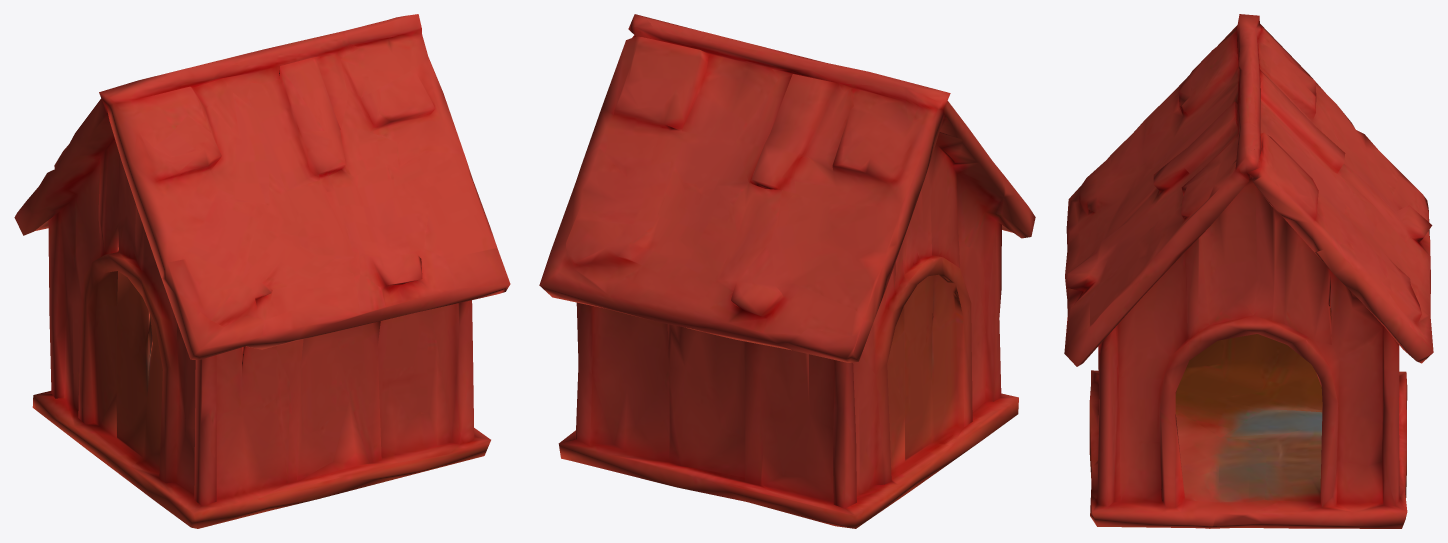
The model's file is doghouse.glb.
3 views of the same model, side by side, from view 1: azimuth 30°, elevation 25°; view 2: azimuth 150°, elevation 25°; view 3: azimuth 270°, elevation 25° (orthographic). The views are drawn at different scales.
Visible parts, largest first — view 1: tripo_node_b04c099f-51be-486f-9b52-2ef30d1ef857; view 2: tripo_node_b04c099f-51be-486f-9b52-2ef30d1ef857; view 3: tripo_node_b04c099f-51be-486f-9b52-2ef30d1ef857.
Boxes of the visible parts, x1,y1,x2,y2 form: tripo_node_b04c099f-51be-486f-9b52-2ef30d1ef857: [14, 14, 510, 528]; tripo_node_b04c099f-51be-486f-9b52-2ef30d1ef857: [539, 14, 1035, 528]; tripo_node_b04c099f-51be-486f-9b52-2ef30d1ef857: [1064, 14, 1433, 528].
Bounding box in the file's own units: 0.8537 × 1 × 0.8901.
Materials: 1 (1 with a texture image).
